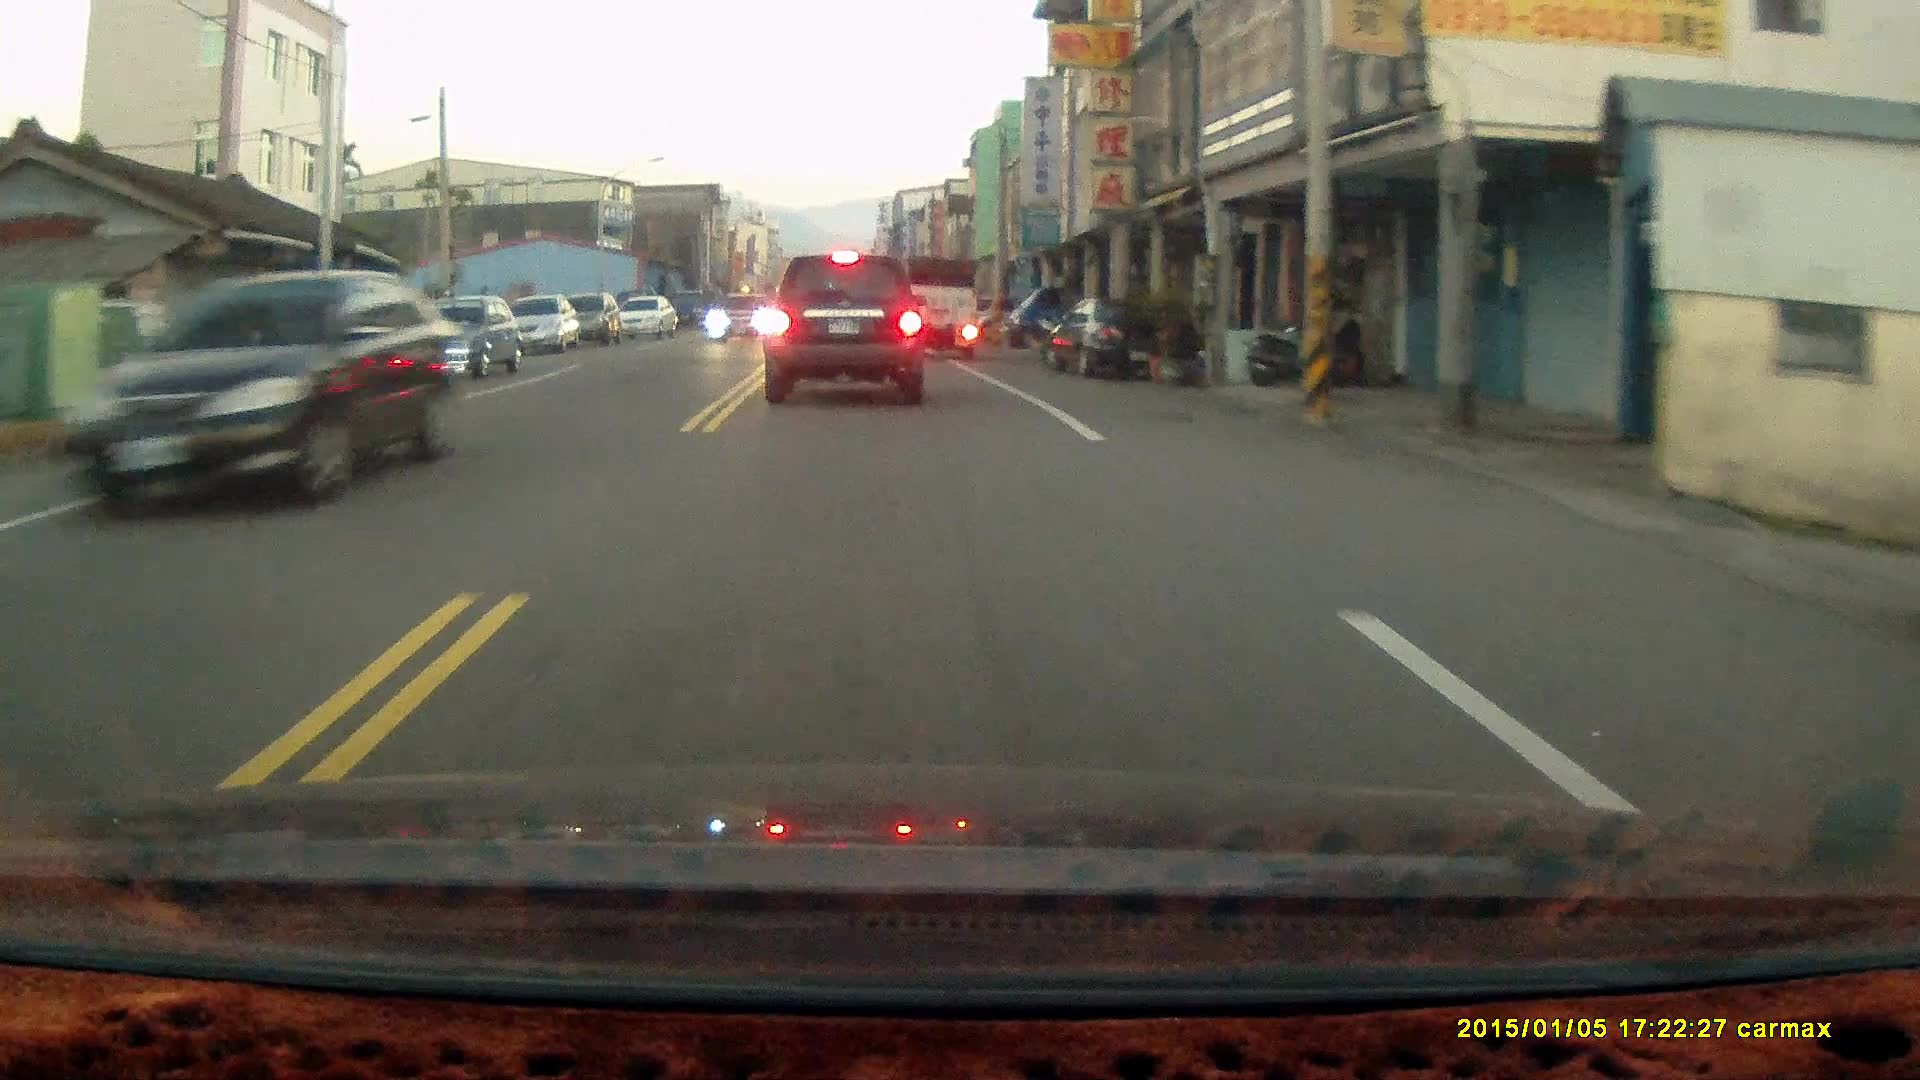vehicle: (67, 270, 465, 520), (764, 249, 927, 405), (1047, 295, 1185, 378), (398, 294, 524, 382), (895, 255, 985, 364), (1006, 280, 1112, 349), (502, 294, 580, 353), (553, 291, 624, 344), (705, 291, 778, 342), (615, 295, 680, 339)
